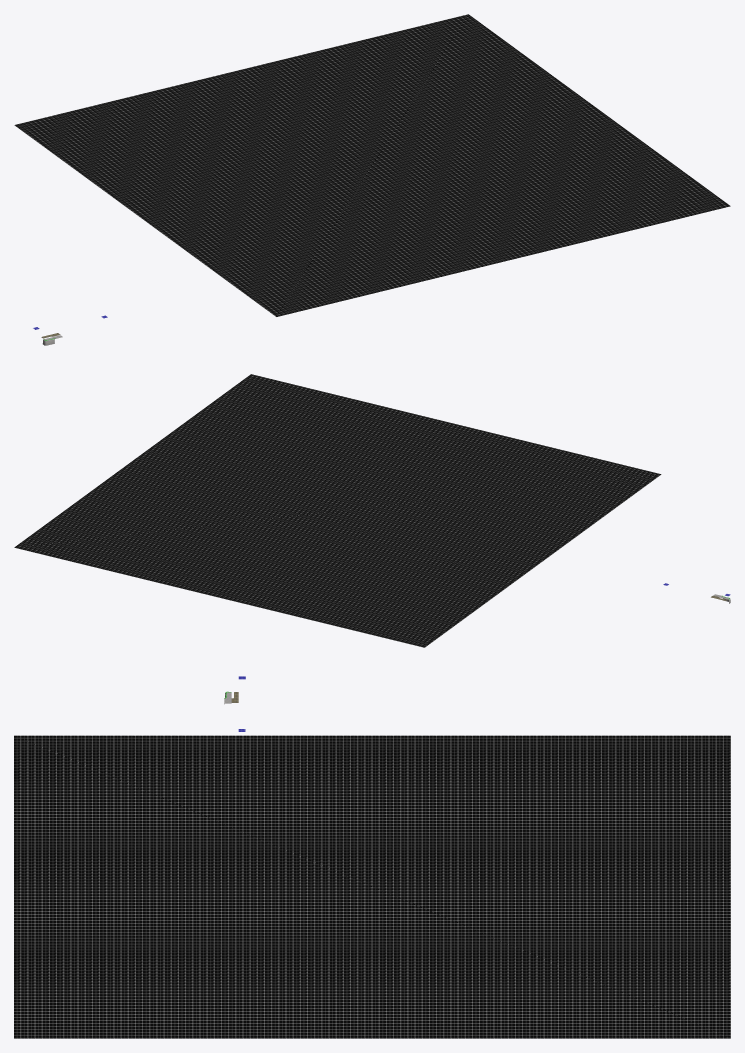
The model's file is bbbglb.glb.
3 renders of one model, top to bottom at view 1: azimuth 30°, elevation 25°; view 2: azimuth 150°, elevation 25°; view 3: azimuth 270°, elevation 25°, orthographic. The views are drawn at different scales.
Parts seen in each view (by area): view 1: Plane; view 2: Plane; view 3: Plane.
Boxes of the visible parts, <box> form: Plane: <box>14,14,730,316</box>; Plane: <box>14,374,661,647</box>; Plane: <box>14,735,730,1038</box>.
Size of the model in its own units: 270 by 20.12 by 200.
6 materials, 6 textured.
